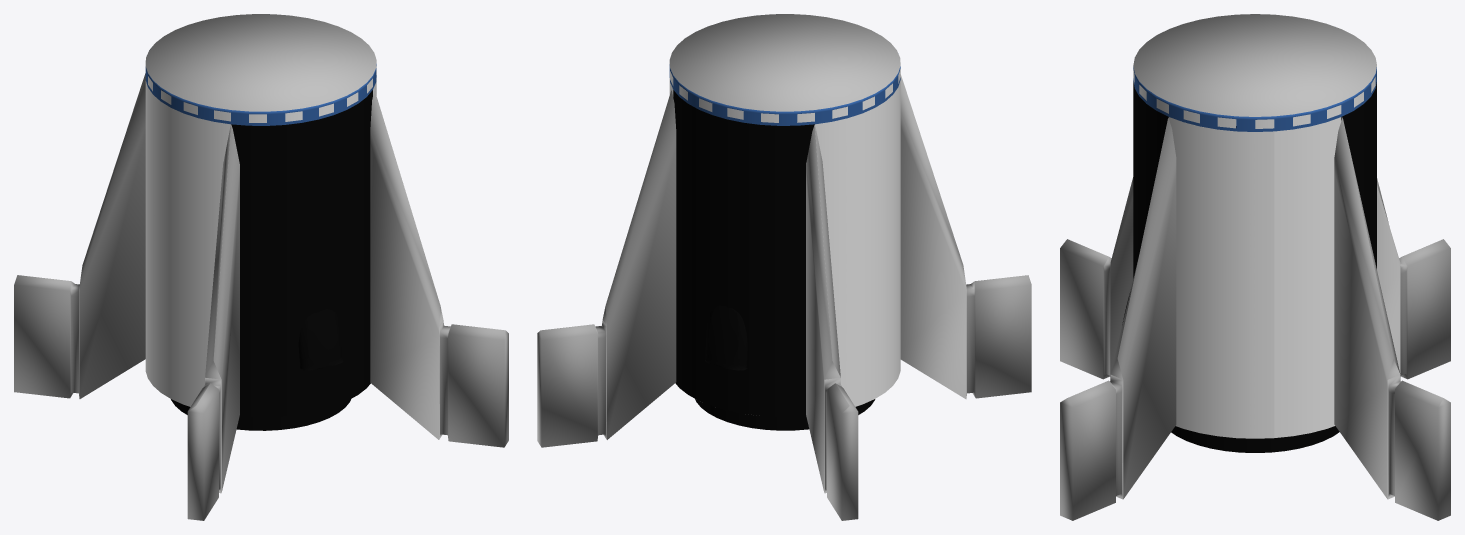
The model's file is jupiter-c-tail.glb.
3 views of the same model, side by side, from view 1: azimuth 30°, elevation 25°; view 2: azimuth 150°, elevation 25°; view 3: azimuth 270°, elevation 25° (orthographic). The views are drawn at different scales.
Parts seen in each view (by area): view 1: tail; view 2: tail; view 3: tail.
Boxes of the visible parts, x1,y1,x2,y2 form: tail: (14, 14, 508, 520); tail: (537, 14, 1031, 520); tail: (1060, 14, 1450, 520).
Bounding box in the file's own units: 2.94 × 3.09 × 2.94.
Materials: 1 (1 with a texture image).
